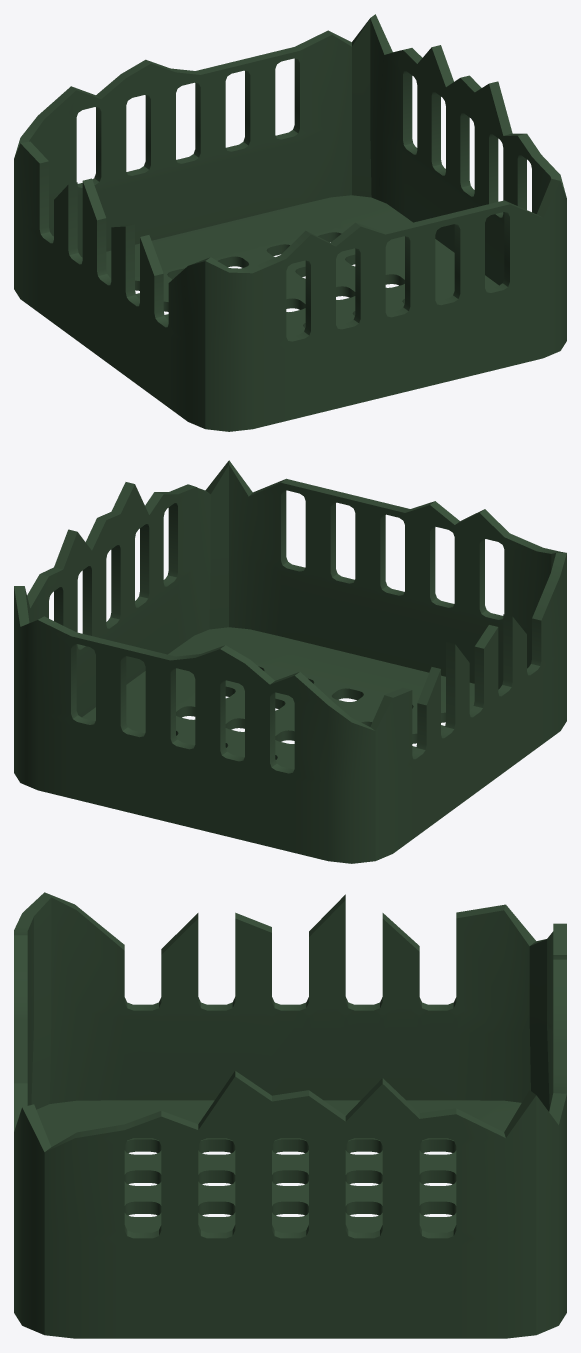
The model's file is 13PlasticBasket.fbx.
The picture shows the model from 3 angles, top to bottom: view 1: azimuth 30°, elevation 25°; view 2: azimuth 150°, elevation 25°; view 3: azimuth 270°, elevation 25°; orthographic projection. The views are drawn at different scales.
Parts seen in each view (by area): view 1: PlasticBasket13broken; view 2: PlasticBasket13broken; view 3: PlasticBasket13broken.
Part boxes in pixels (x1=…): PlasticBasket13broken: x1=14, y1=14, x2=566, y2=431; PlasticBasket13broken: x1=14, y1=460, x2=566, y2=863; PlasticBasket13broken: x1=14, y1=892, x2=566, y2=1338.
Size of the model in its own units: 200 by 105 by 200.
